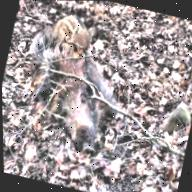boar: (14, 0, 160, 160)
